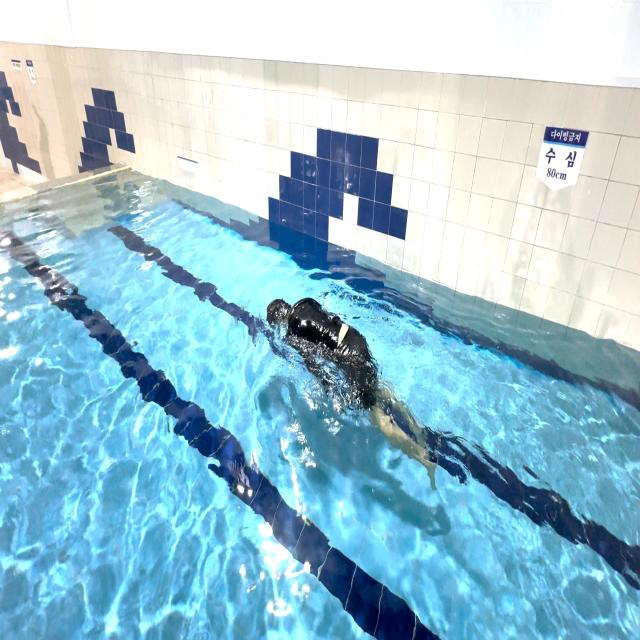Drowning: (262, 276, 447, 503)
